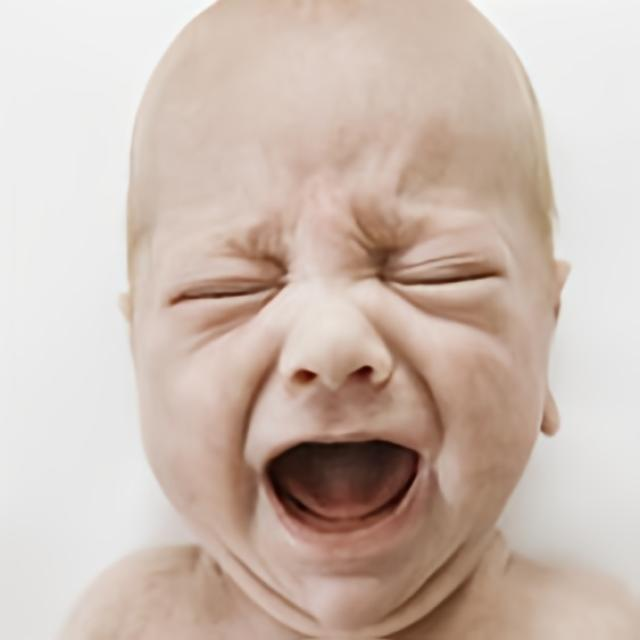sad: (130, 1, 549, 626)
